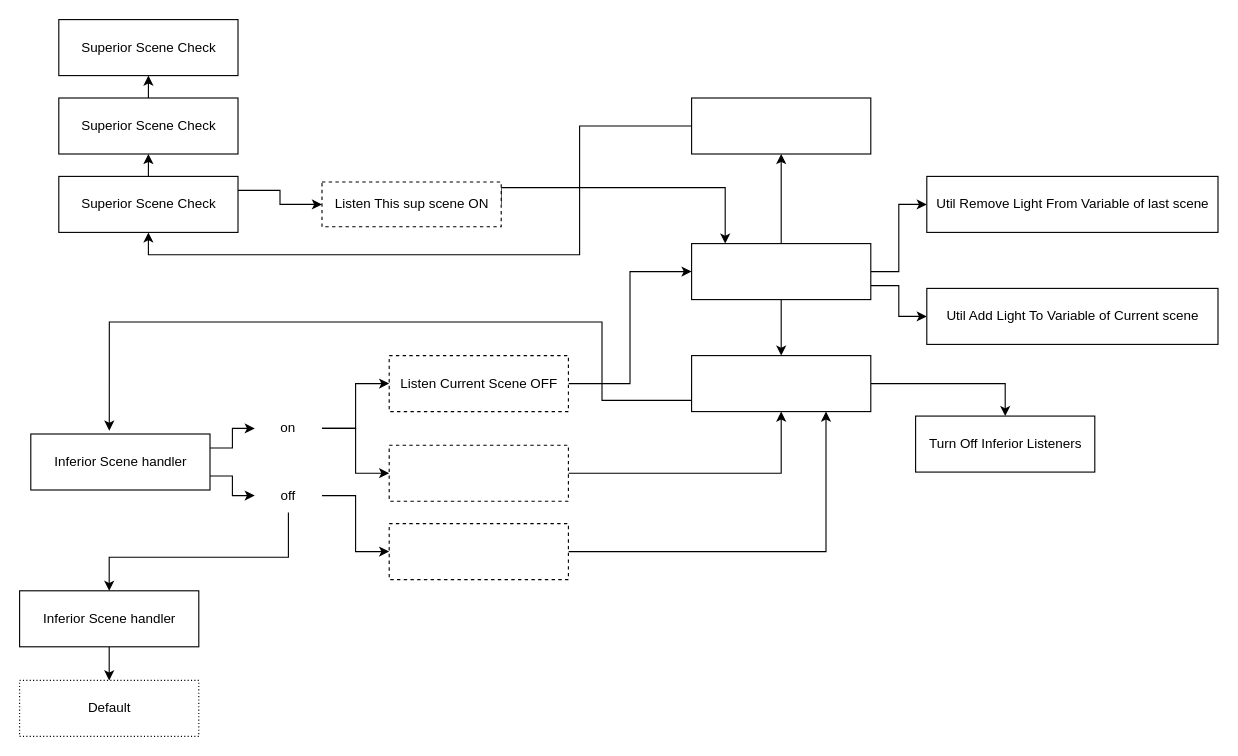
This 1238x756 diagram has some shape labels left out. The centre of each missing label's shape, as x and y in pixels:
"Apply Scene to light" goes at (x=780, y=271).
"Init Super Scene Check" goes at (x=780, y=125).
"Init/reset Infer scene Check" goes at (x=780, y=383).
"Listen This Inf scene OFF" goes at (x=478, y=472).
"Listen This scene ON" goes at (x=478, y=551).
